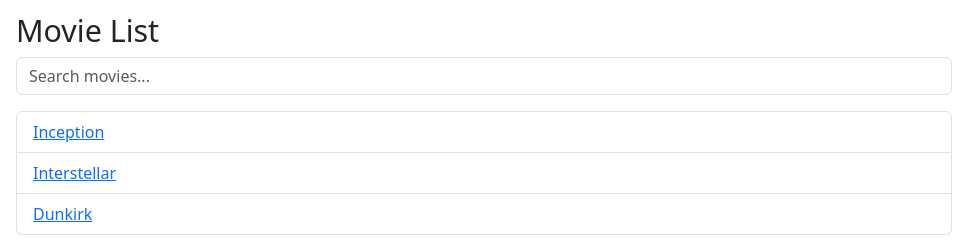
Test: displays no movies message when search does not match any movie
The width and height of the screenshot is (969, 252).
Type "Nonexistent Movie" into the field with placeholder "Search movies..." at (484, 76), box [16, 56, 952, 94]
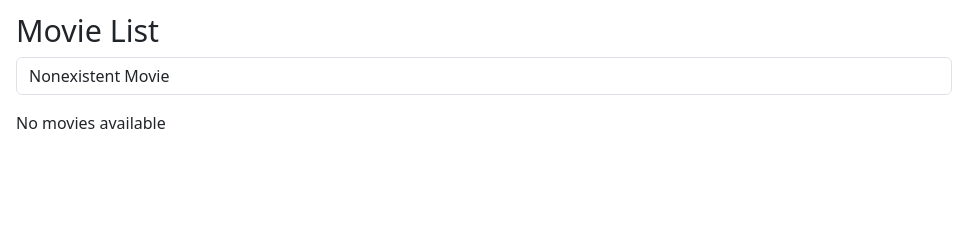
Check: the text "No movies available" is shown, box [16, 112, 166, 134]
